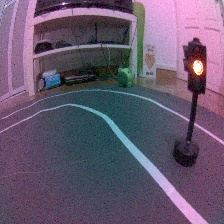amber: (171, 37, 209, 170)
